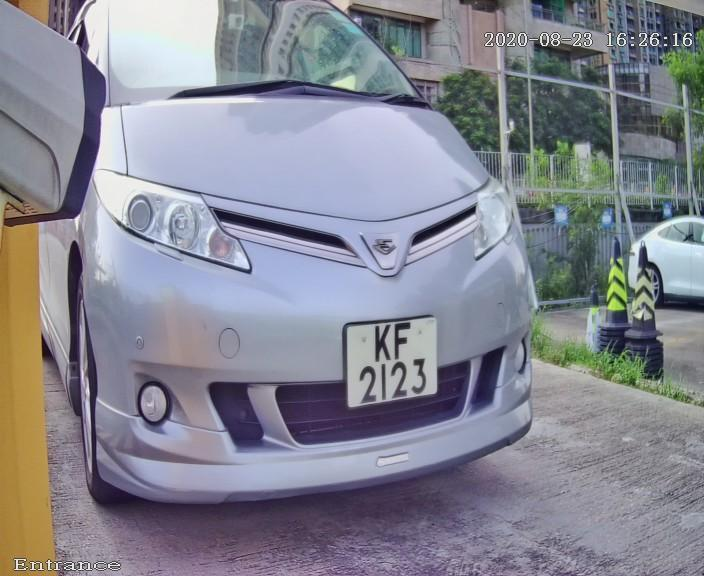Car: (35, 3, 582, 538)
License Plate: (337, 304, 447, 420)
